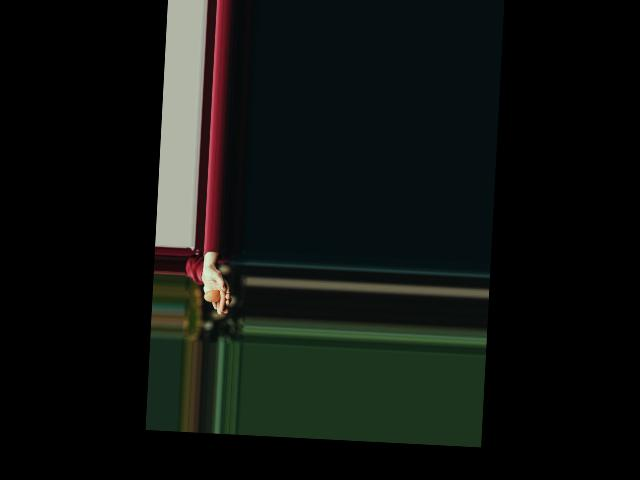egg: (204, 289, 220, 302)
